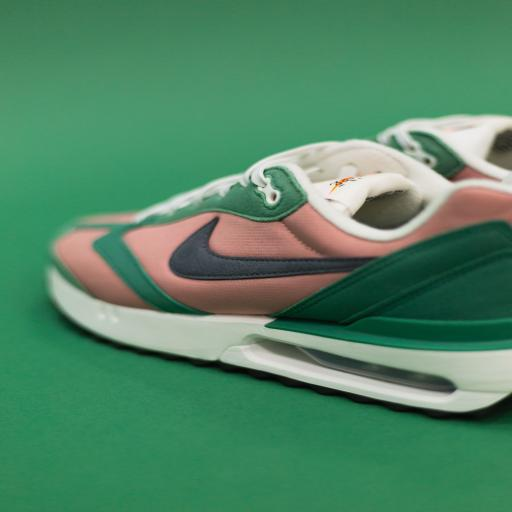shoe: (49, 141, 511, 412), (377, 116, 511, 181)
